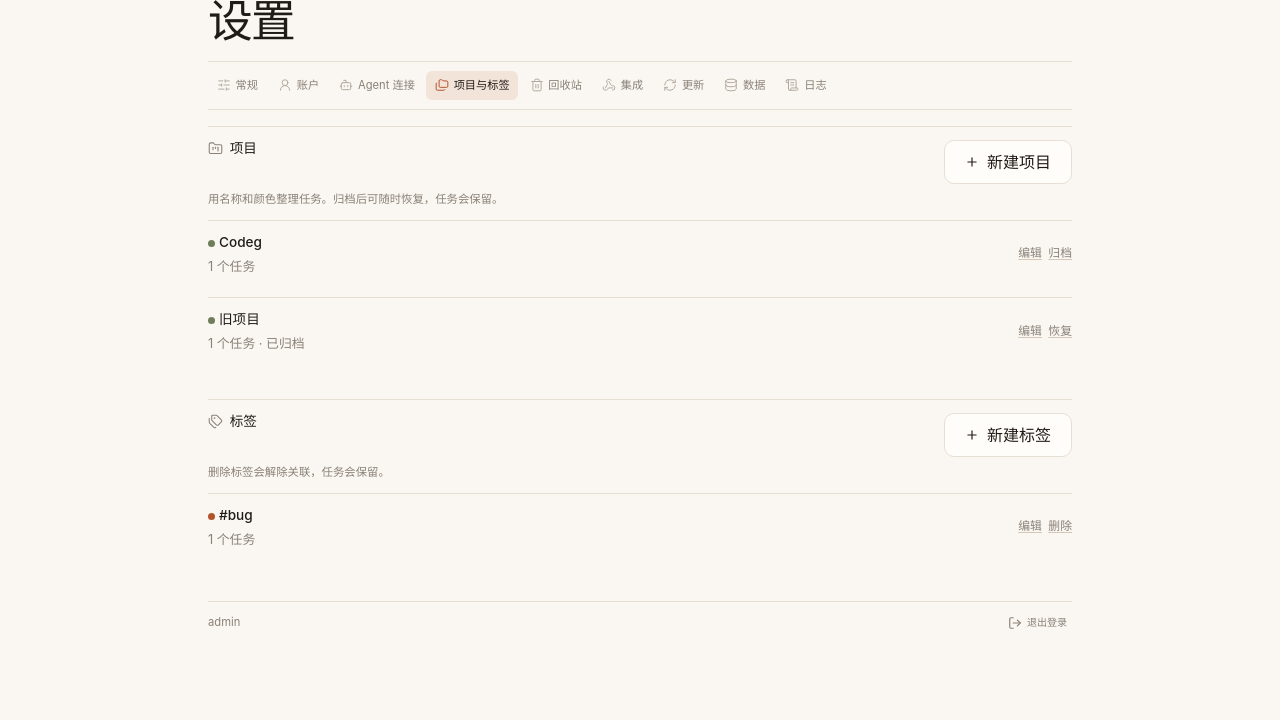
it: metadata management › edits project and tag metadata, retaining task caches for refetch
Click the button with aria-label "编辑项目 Codeg" at (1030, 254), box [1018,245,1042,263]
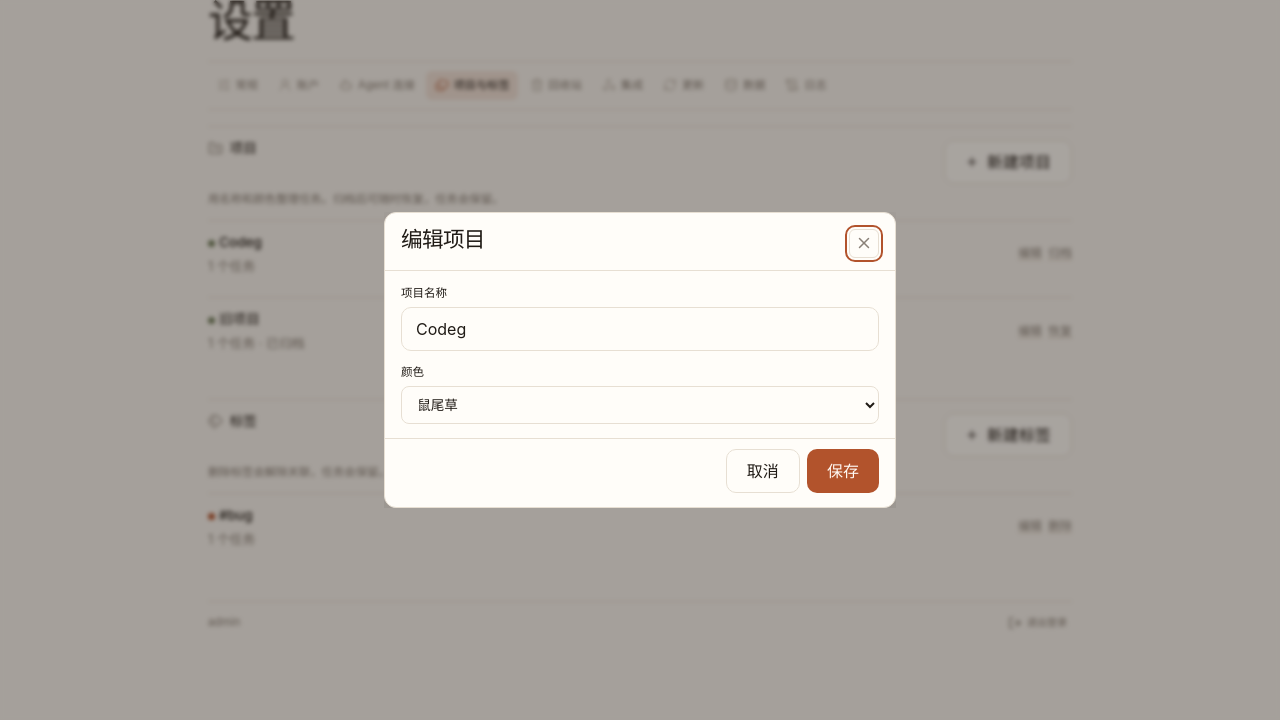
Replace the text in the field labelled "项目名称" with "新项目名" at (640, 329), box [401,307,879,351]
Select "晴空" in the dropdown labelled "颜色" at (640, 405), box [401,386,879,424]
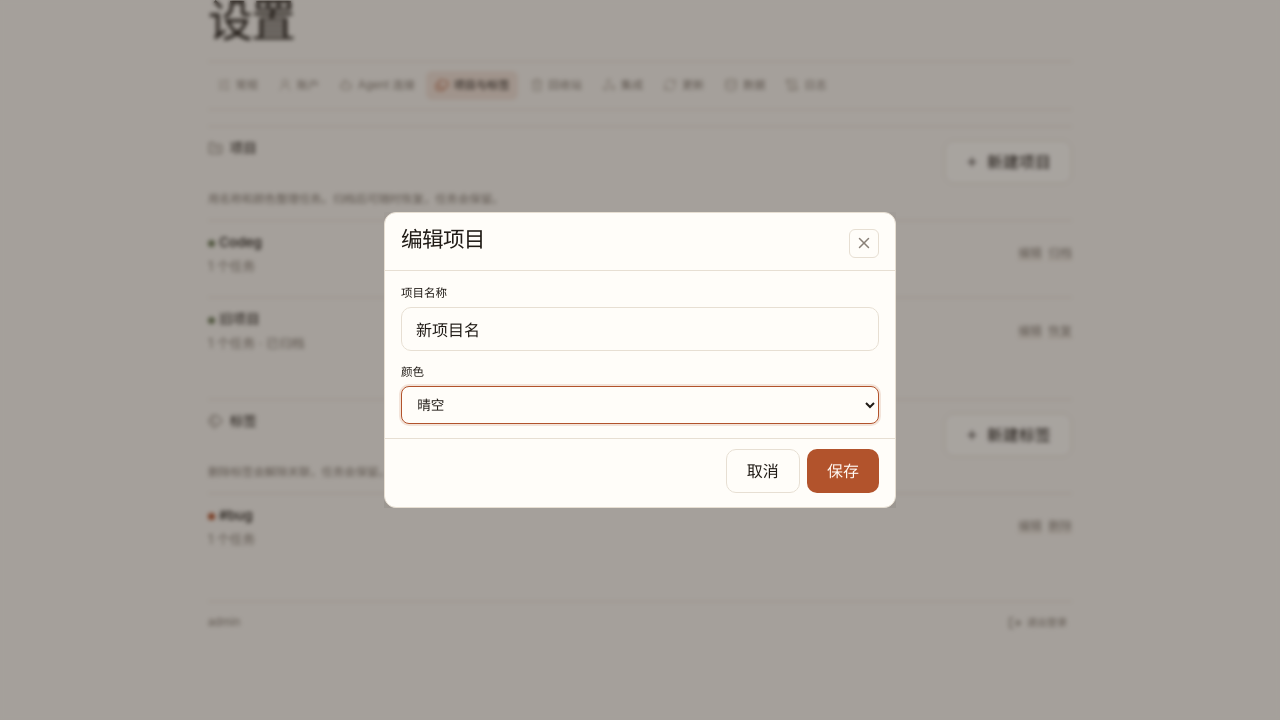
Click the button "保存" at (843, 471), box [807,449,879,493]
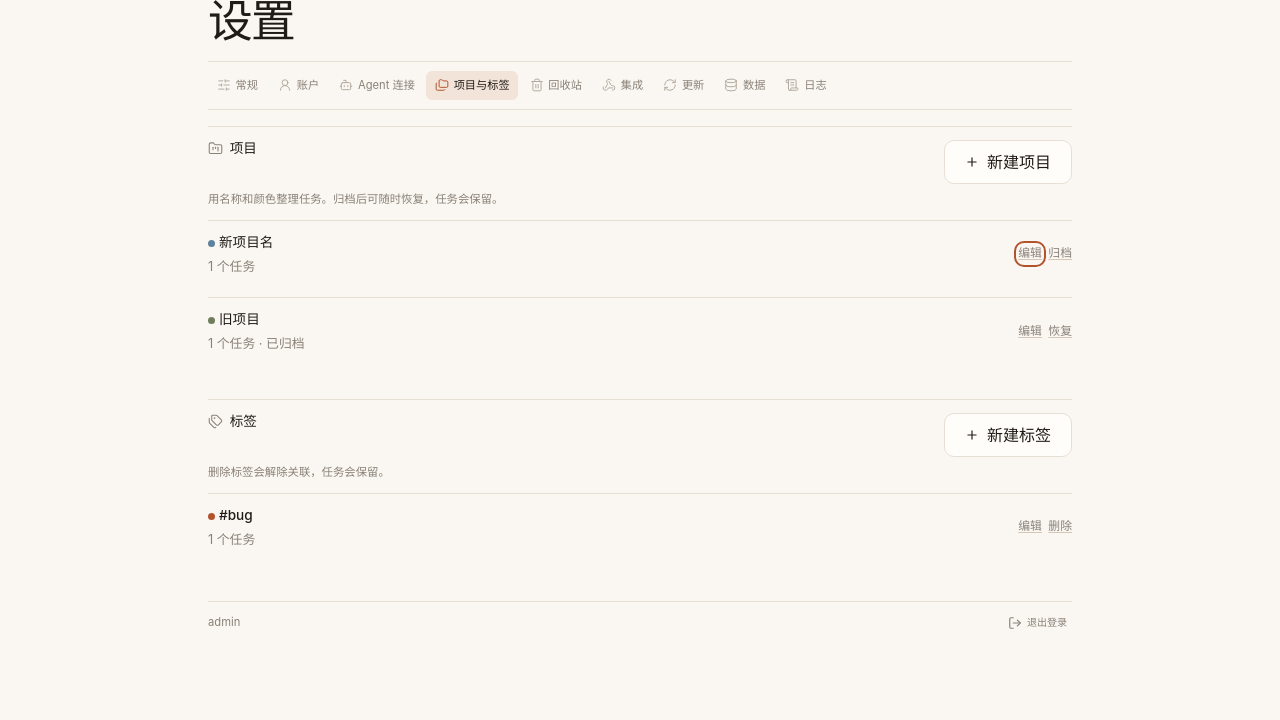
Check: the button with aria-label "编辑项目 新项目名" is shown, box [1018,245,1042,263]
Click the button with aria-label "编辑标签 bug" at (1030, 527), box [1018,518,1042,536]
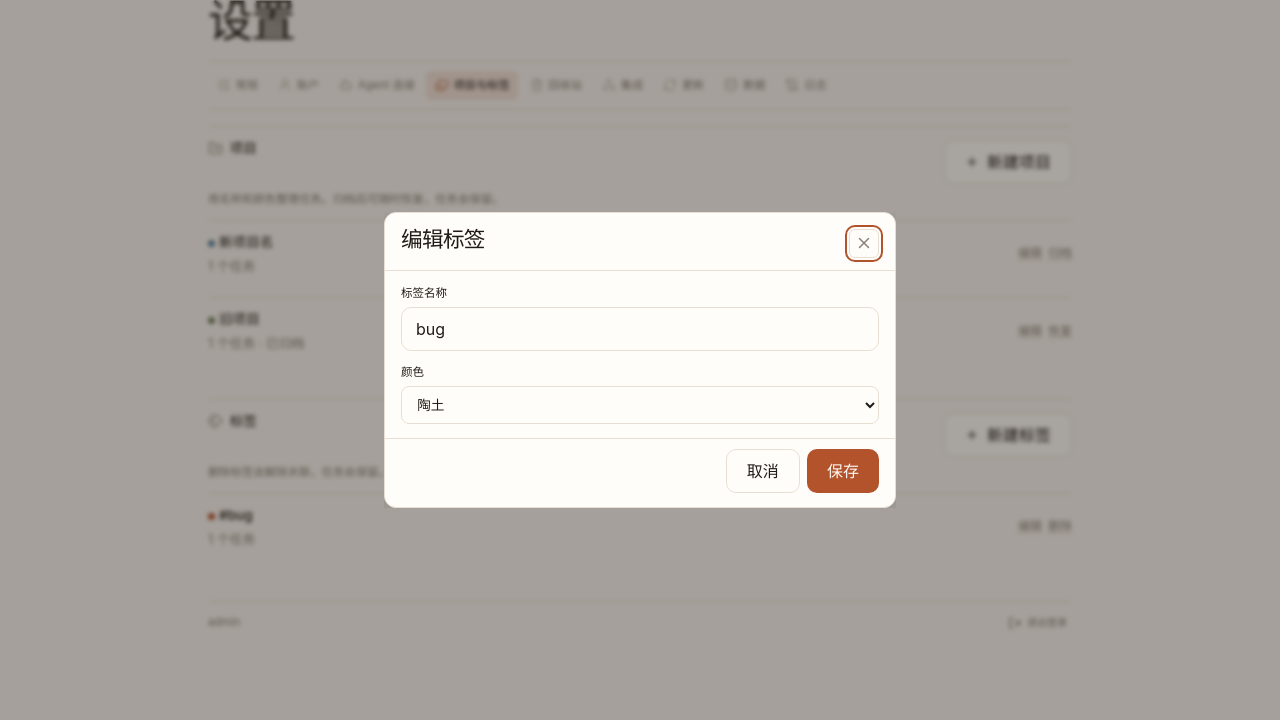
Replace the text in the field labelled "标签名称" with "urgent" at (640, 329), box [401,307,879,351]
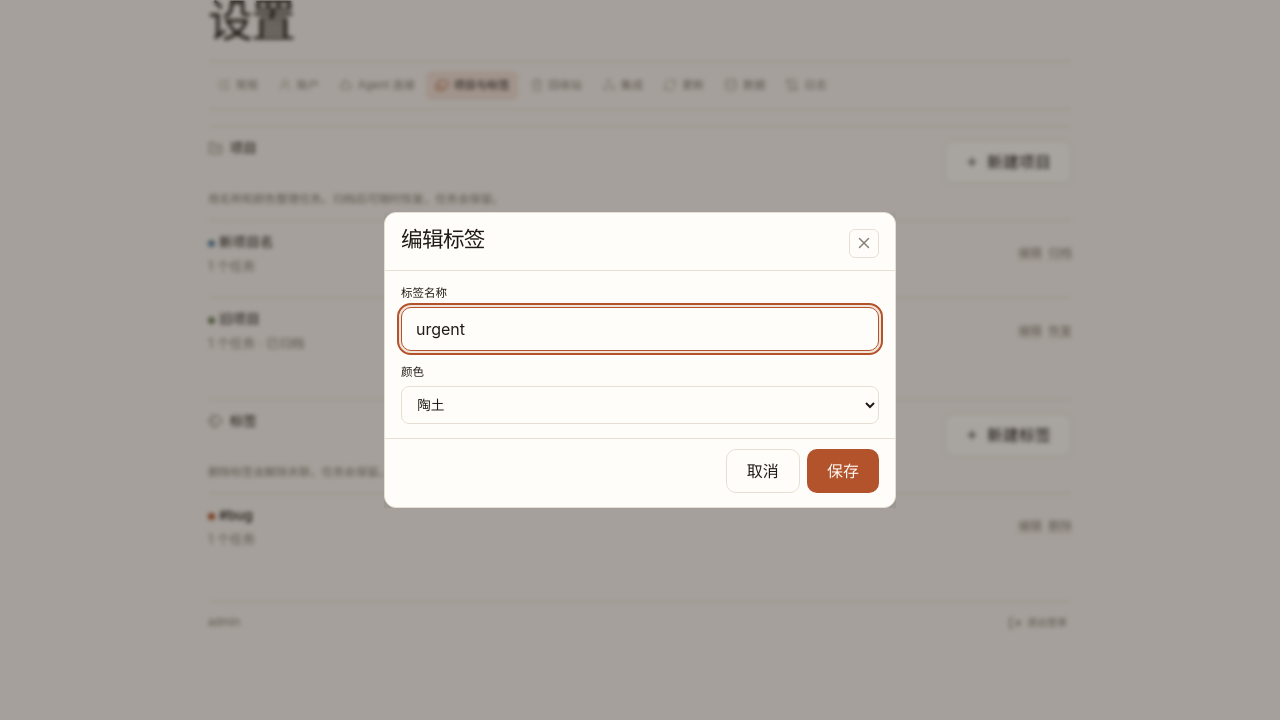
Click the button "保存" at (843, 471), box [807,449,879,493]
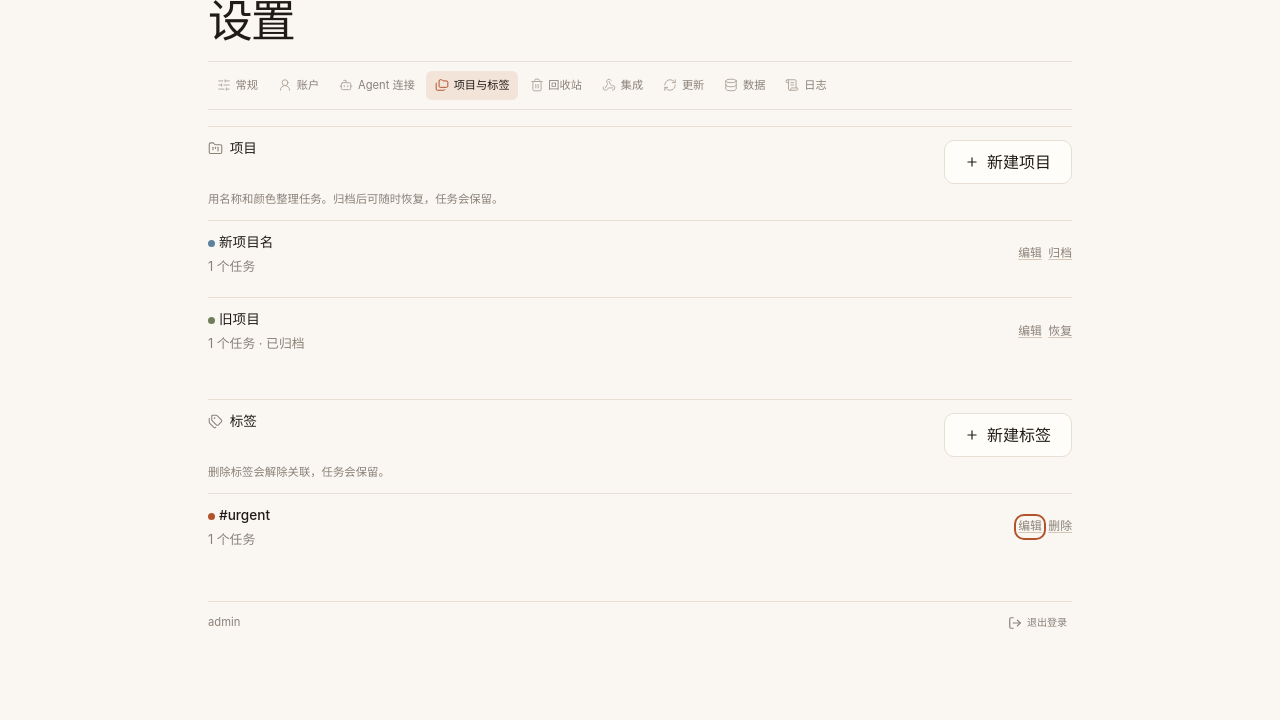
Check: the button with aria-label "编辑标签 urgent" is shown, box [1018,518,1042,536]
